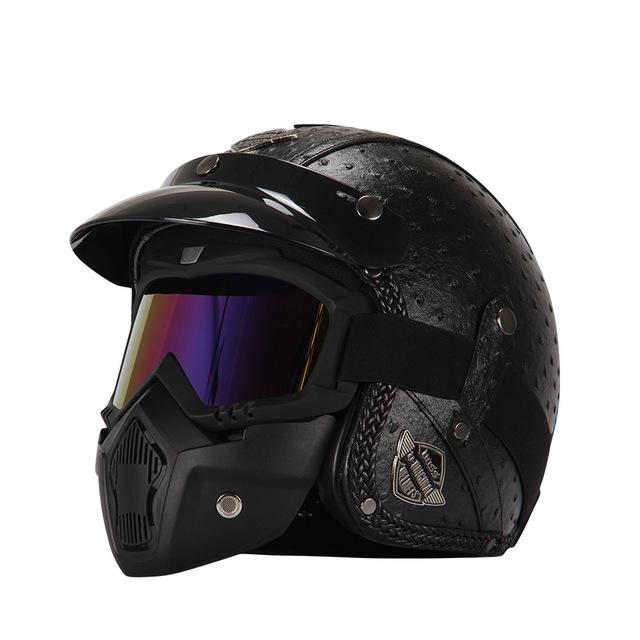with_helmet: (60, 121, 564, 575)
